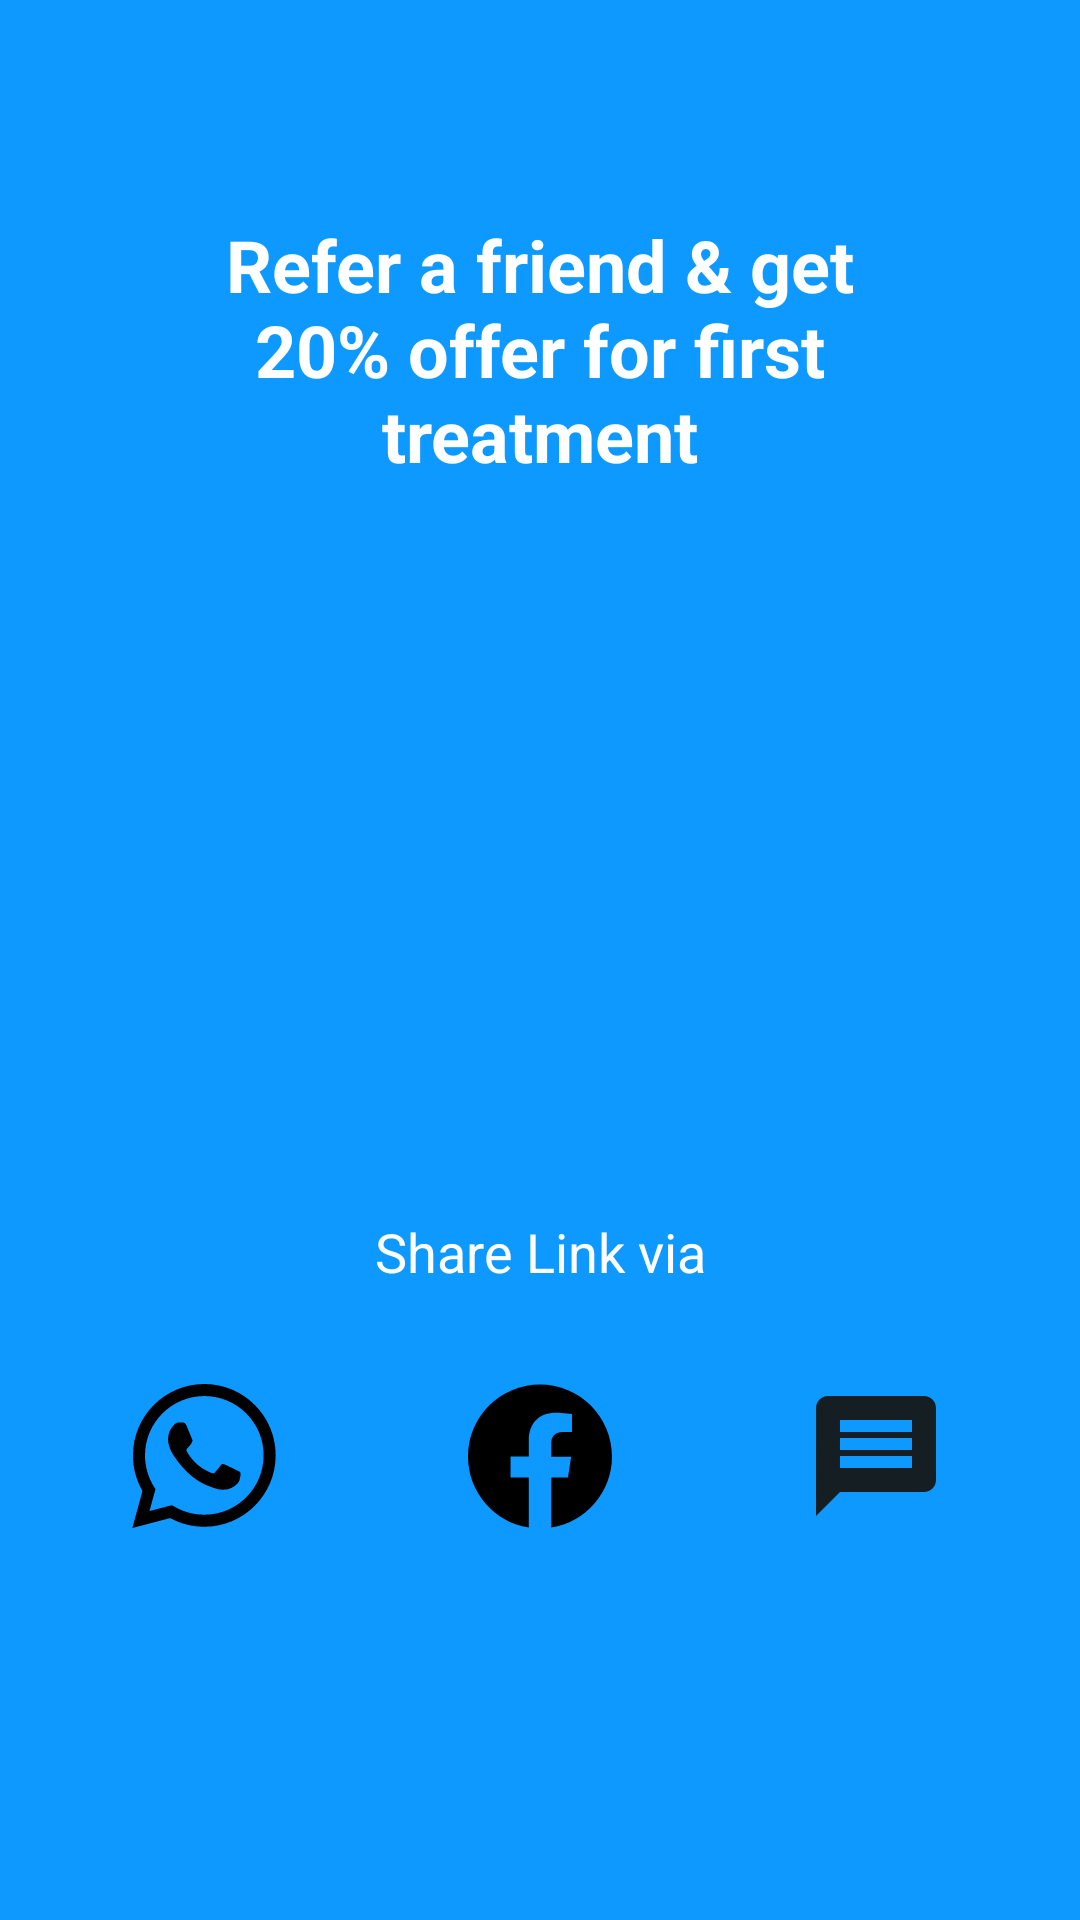

Icon click points for this 1080 × 1920 phone screenshot, format point (x, y):
message: point (876, 1456)
